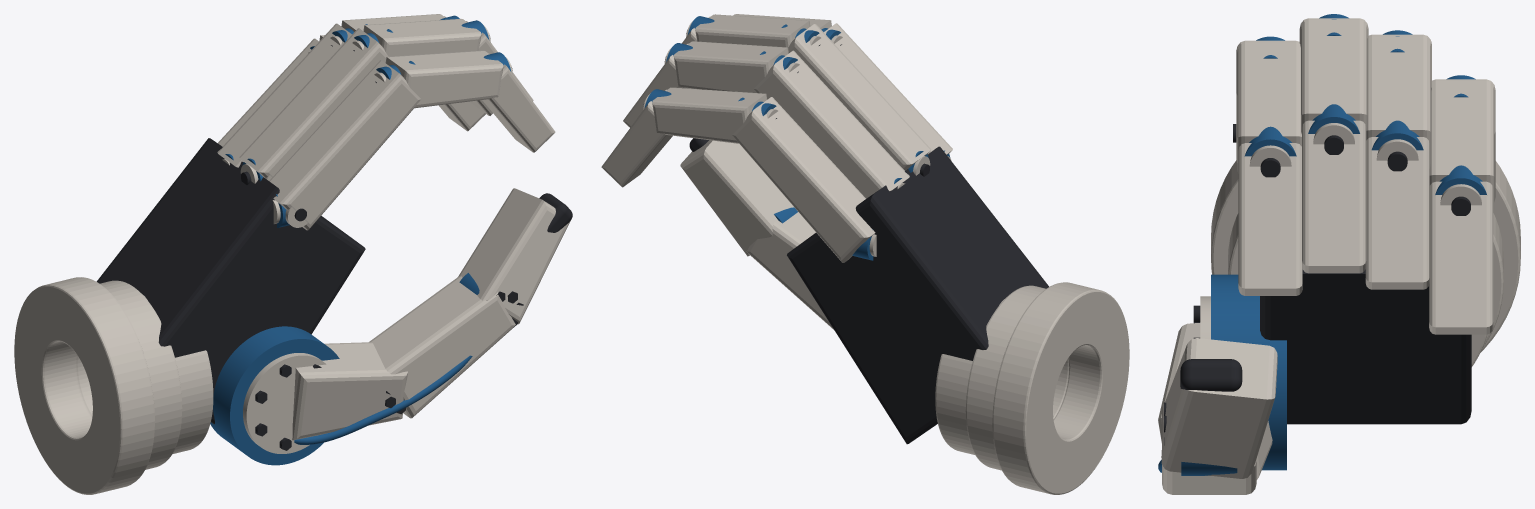
File: anatomy-13.glb
3 views of the same model, side by side, from view 1: azimuth 30°, elevation 25°; view 2: azimuth 150°, elevation 25°; view 3: azimuth 270°, elevation 25° (orthographic). The views are drawn at different scales.
Visible parts, largest first — view 1: fingers, wrist, palm, thumb, base, cables, pad; view 2: fingers, palm, wrist, thumb; view 3: fingers, palm, thumb, wrist, base, pad, joints.
Part boxes in pixels (<box>): fingers: <box>217,14,555,230</box>; wrist: <box>14,277,213,494</box>; palm: <box>96,138,365,424</box>; thumb: <box>292,188,570,440</box>; base: <box>210,326,339,465</box>; cables: <box>294,355,472,444</box>; pad: <box>539,193,572,232</box>; fingers: <box>601,14,952,262</box>; palm: <box>787,146,1048,444</box>; wrist: <box>935,282,1129,494</box>; thumb: <box>680,140,834,330</box>; fingers: <box>1236,14,1495,334</box>; palm: <box>1260,269,1471,424</box>; thumb: <box>1158,323,1277,494</box>; wrist: <box>1211,160,1520,366</box>; base: <box>1193,274,1286,470</box>; pad: <box>1180,359,1242,391</box>; joints: <box>1164,402,1237,475</box>.
Bounding box in the file's own units: 1.75 × 1.47 × 0.8568.
